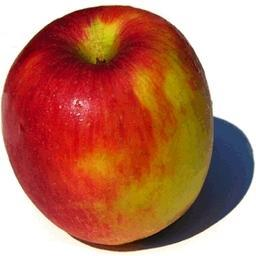apple: (0, 3, 213, 248)
